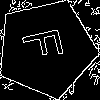F: (21, 23, 74, 64)
